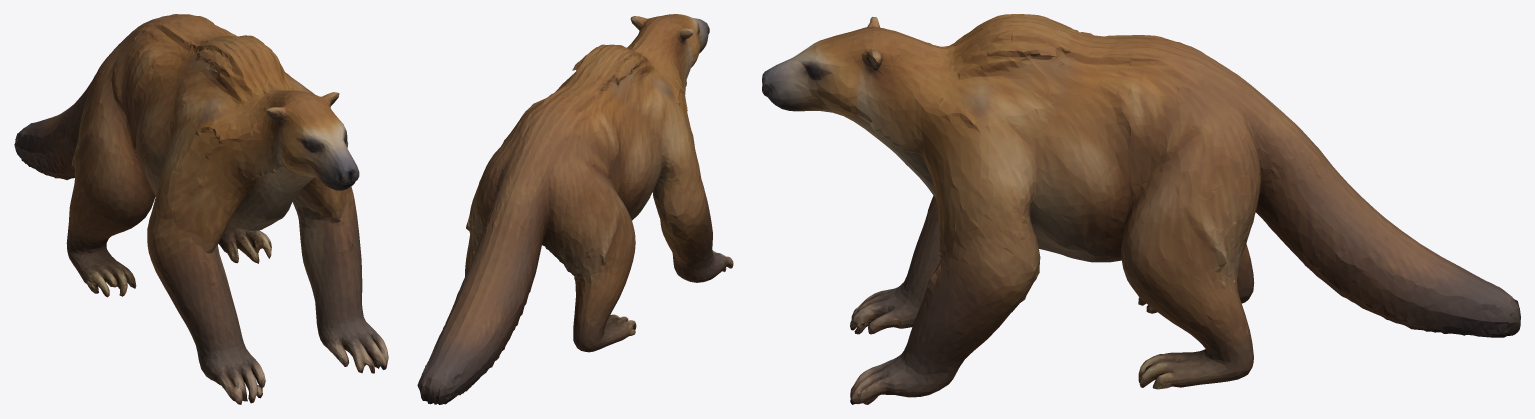
3 views of the same model, side by side, from view 1: azimuth 30°, elevation 25°; view 2: azimuth 150°, elevation 25°; view 3: azimuth 270°, elevation 25° (orthographic). The views are drawn at different scales.
Parts seen in each view (by area): view 1: world; view 2: world; view 3: world.
Part boxes in pixels (x1,y1,x2,y2): world: [14, 14, 388, 404]; world: [417, 14, 733, 404]; world: [762, 14, 1520, 404].
Bounding box in the file's own units: 0.9484 × 1.35 × 2.7.
1 material, 1 textured.
